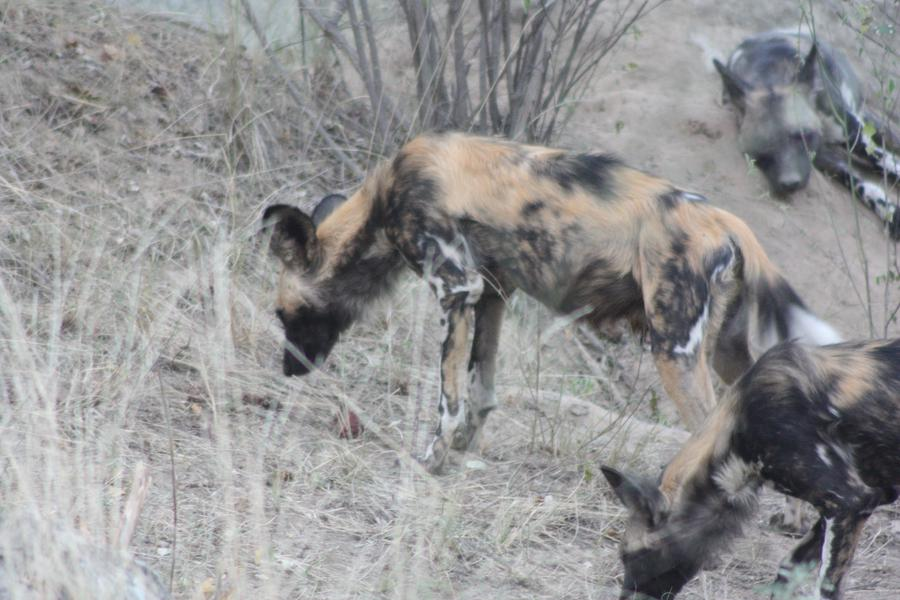wilddog: (317, 120, 700, 356), (635, 349, 880, 575), (726, 32, 857, 193)
